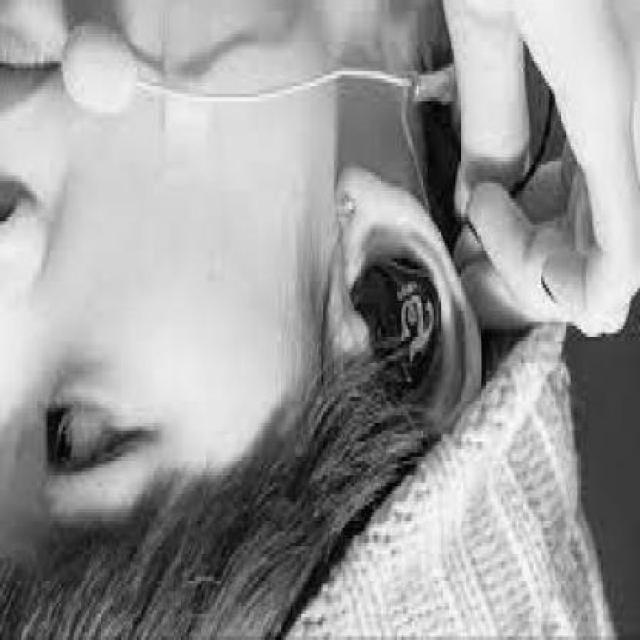earphone: (350, 245, 457, 395)
